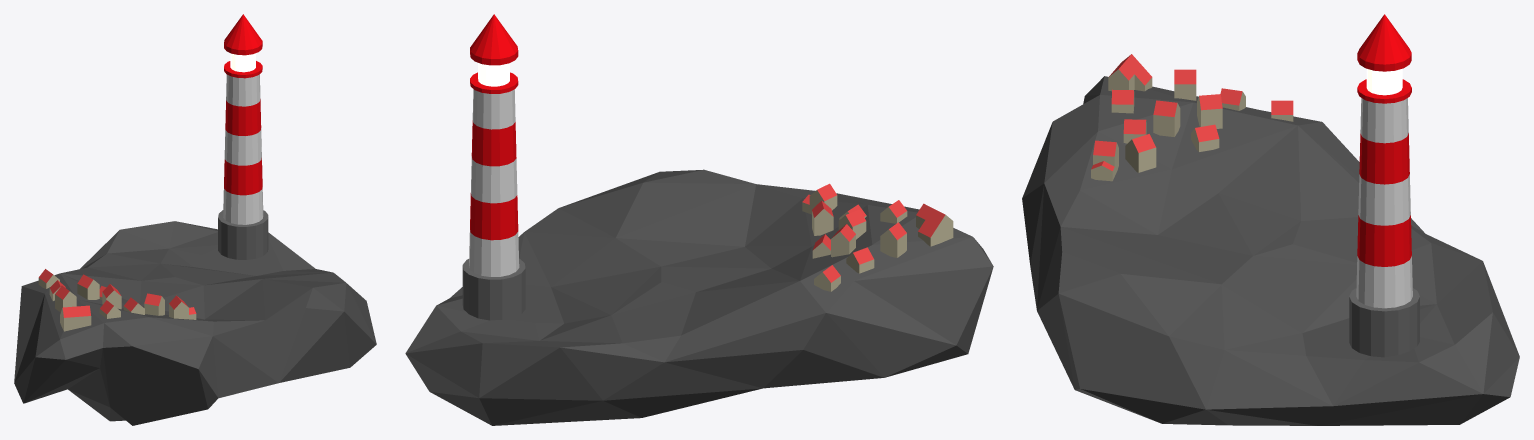
File: lighthouse.gltf
The picture shows the model from 3 angles, left to right: view 1: azimuth 30°, elevation 25°; view 2: azimuth 150°, elevation 25°; view 3: azimuth 270°, elevation 25°; orthographic projection. The views are drawn at different scales.
Parts seen in each view (by area): view 1: Base Rocks, Lighthouse, Cube.002, Cube.003, Cube.010, Cube, Cube.004; view 2: Base Rocks, Lighthouse, Cube.002, Cube.004, Cube.010, Cube.003, Cube; view 3: Base Rocks, Lighthouse, Cube.002, Cube.003, Cube, Cube.007, Cube.010, Cube.004, Cube.009, Cube.005, Cube.008, Cube.006 (+1 smaller).
Part boxes in pixels (x1=…): Base Rocks: x1=14, y1=221, x2=376, y2=425; Lighthouse: x1=218, y1=14, x2=268, y2=259; Cube.002: x1=60, y1=305, x2=91, y2=331; Cube.003: x1=169, y1=295, x2=196, y2=319; Cube.010: x1=77, y1=274, x2=99, y2=299; Cube: x1=144, y1=293, x2=164, y2=315; Cube.004: x1=55, y1=285, x2=76, y2=312; Base Rocks: x1=405, y1=169, x2=993, y2=425; Lighthouse: x1=462, y1=14, x2=525, y2=320; Cube.002: x1=916, y1=203, x2=953, y2=246; Cube.004: x1=880, y1=222, x2=906, y2=257; Cube.010: x1=831, y1=224, x2=855, y2=257; Cube.003: x1=802, y1=183, x2=837, y2=214; Cube: x1=812, y1=200, x2=833, y2=235; Base Rocks: x1=1022, y1=76, x2=1519, y2=425; Lighthouse: x1=1349, y1=14, x2=1419, y2=357; Cube.002: x1=1108, y1=54, x2=1152, y2=91; Cube.003: x1=1091, y1=140, x2=1118, y2=181; Cube: x1=1125, y1=134, x2=1156, y2=172; Cube.007: x1=1153, y1=100, x2=1180, y2=136; Cube.010: x1=1197, y1=94, x2=1222, y2=128; Cube.004: x1=1174, y1=69, x2=1196, y2=100; Cube.009: x1=1191, y1=124, x2=1219, y2=151; Cube.005: x1=1111, y1=89, x2=1134, y2=113; Cube.008: x1=1220, y1=88, x2=1245, y2=110; Cube.006: x1=1123, y1=119, x2=1146, y2=143.
Size of what is drawn, in the model's own units: 14.29 by 11.6 by 12.15.
